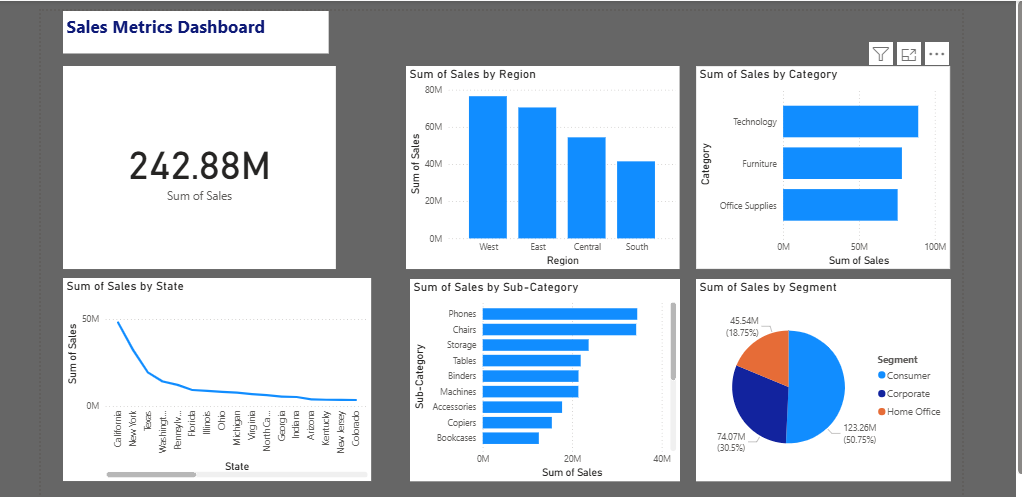

This screenshot's page, from the dashboard's own definition file:
{"tool":"powerbi","page":{"name":"Page 1","canvas":[1280,720],"ordinal":0},"visuals":[{"type":"clusteredBarChart","fields":{"Category":["Cleaned Data.Category"],"Y":["Sum(Cleaned Data.Sales)"]},"box":[910.2,76.1,352.7,282.4],"z":0},{"type":"lineStackedColumnComboChart","fields":{"Category":["Cleaned Data.Region"],"Y":["Sum(Cleaned Data.Sales)"]},"box":[506.3,76.1,380.5,282.4],"z":1000},{"type":"lineChart","fields":{"Category":["Cleaned Data.State"],"Y":["Sum(Cleaned Data.Sales)"]},"box":[30.2,371.2,428.3,282.2],"z":2000},{"type":"card","fields":{"Values":["Sum(Cleaned Data.Sales)"]},"box":[30.7,76.1,379,282.4],"z":3000},{"type":"barChart","fields":{"Category":["Cleaned Data.Sub-Category"],"Y":["Sum(Cleaned Data.Sales)"]},"box":[512.2,371.7,374.6,281],"z":4000},{"type":"pieChart","fields":{"Y":["Sum(Cleaned Data.Sales)"],"Category":["Cleaned Data.Segment"]},"box":[910.2,371.7,354.1,281],"z":5000},{"type":"textbox","box":[30.7,0,368.8,58.5],"z":6000}]}

Visuals, with their boxes on the page's 1280x720 design canvas (x1, y1, x2, y2). These are canvas units, not pixel positions in the 1022x497 screenshot, which may show the page scaled, cropped or inside an application window:
clusteredBarChart - Cleaned Data.Category x Sum(Cleaned Data.Sales): bbox(910, 76, 1263, 358)
lineStackedColumnComboChart - Cleaned Data.Region x Sum(Cleaned Data.Sales): bbox(506, 76, 887, 358)
lineChart - Cleaned Data.State x Sum(Cleaned Data.Sales): bbox(30, 371, 458, 653)
card - Sum(Cleaned Data.Sales): bbox(31, 76, 410, 358)
barChart - Cleaned Data.Sub-Category x Sum(Cleaned Data.Sales): bbox(512, 372, 887, 653)
pieChart - Sum(Cleaned Data.Sales) x Cleaned Data.Segment: bbox(910, 372, 1264, 653)
textbox: bbox(31, 0, 400, 58)
